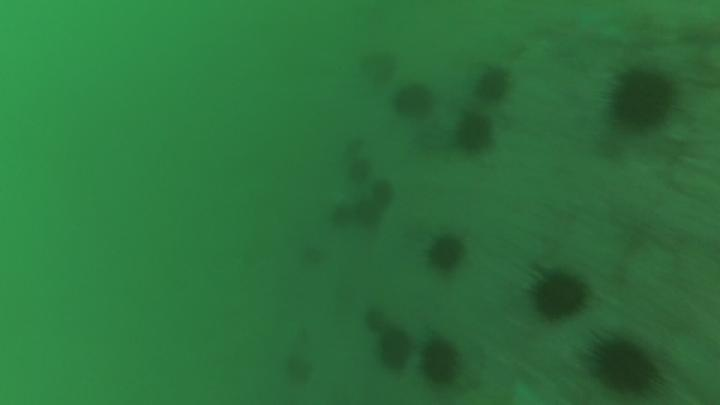echinus: (584, 327, 674, 402), (599, 64, 688, 138), (524, 266, 591, 321), (441, 108, 506, 164), (415, 329, 465, 393), (389, 77, 443, 127), (375, 321, 419, 375), (425, 229, 470, 275), (469, 64, 515, 108), (372, 179, 396, 210), (358, 200, 382, 229), (332, 204, 358, 229), (351, 158, 373, 185)
